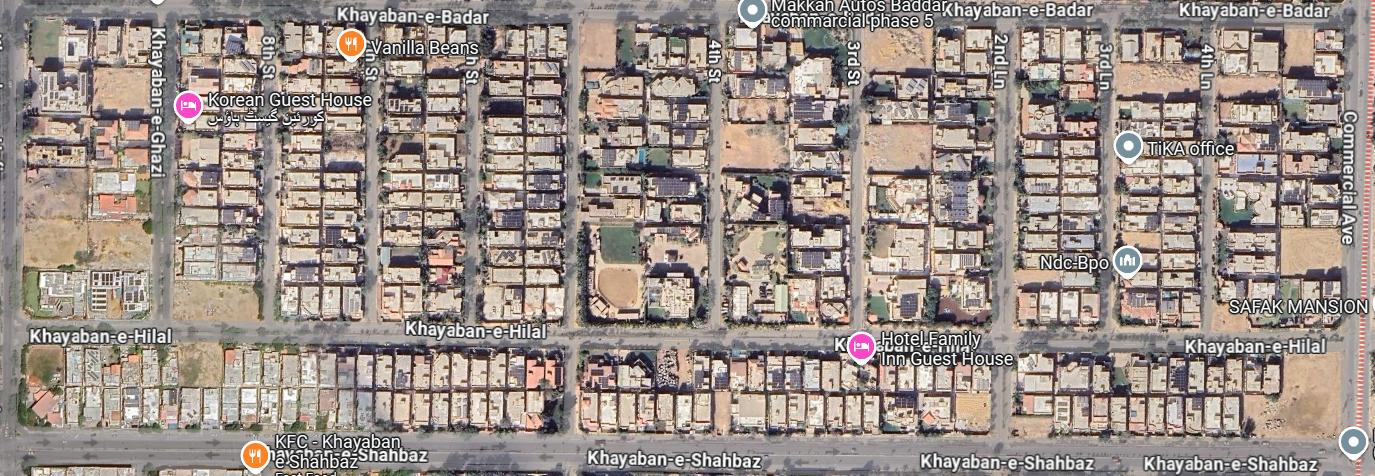Buildings: (17, 343, 565, 433), (16, 18, 157, 323), (1211, 27, 1343, 334), (862, 22, 996, 323), (576, 19, 709, 319), (726, 14, 849, 322), (583, 353, 994, 434), (1012, 356, 1341, 442), (375, 20, 468, 322), (273, 17, 366, 319), (176, 17, 261, 323), (1114, 31, 1200, 330), (480, 22, 566, 321), (1017, 25, 1100, 327)
